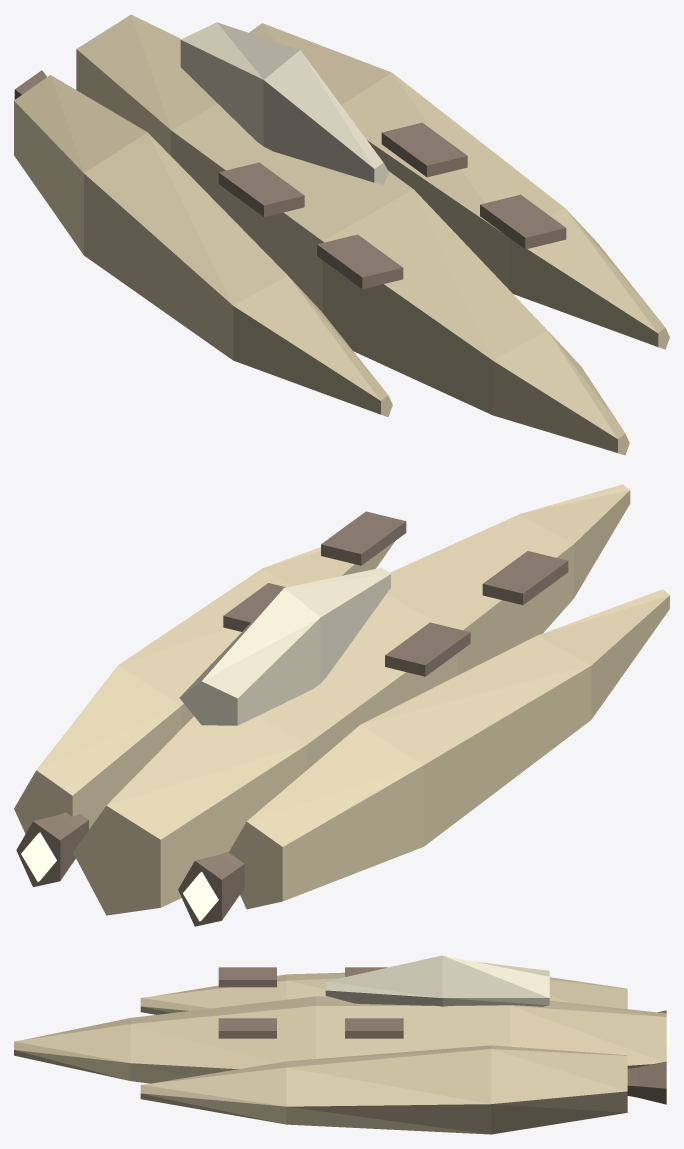
3 renders of one model, top to bottom at view 1: azimuth 30°, elevation 25°; view 2: azimuth 150°, elevation 25°; view 3: azimuth 270°, elevation 25°, orthographic. The views are drawn at different scales.
Size of the model in its own units: 6.28 by 3.71 by 15.17.
